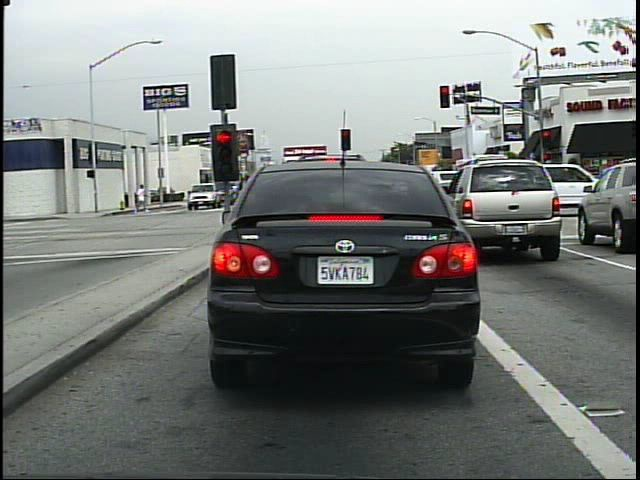person: (131, 181, 151, 217)
